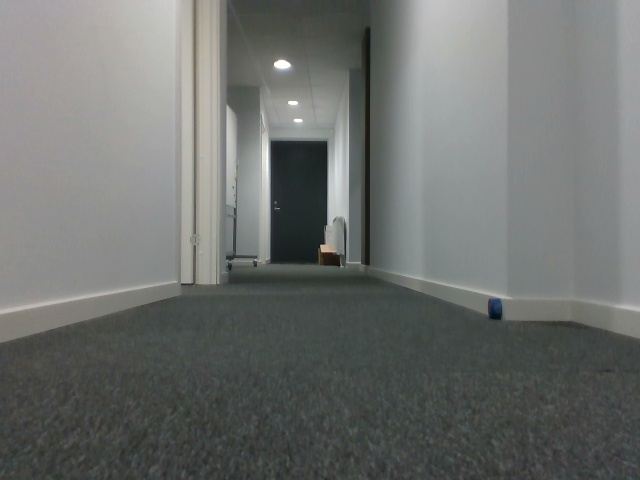alfa: (485, 295, 504, 322)
